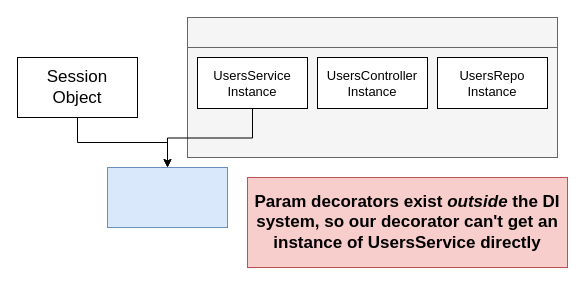
This 585x285 diagram has some shape labels left out. The shapes that lost their labels are listed below. From the top down, each one's centre as x and y in pixels, then its label:
At [372,32]: "Dependency Injection System".
At [167,197]: "CurrentUser Decorator".
